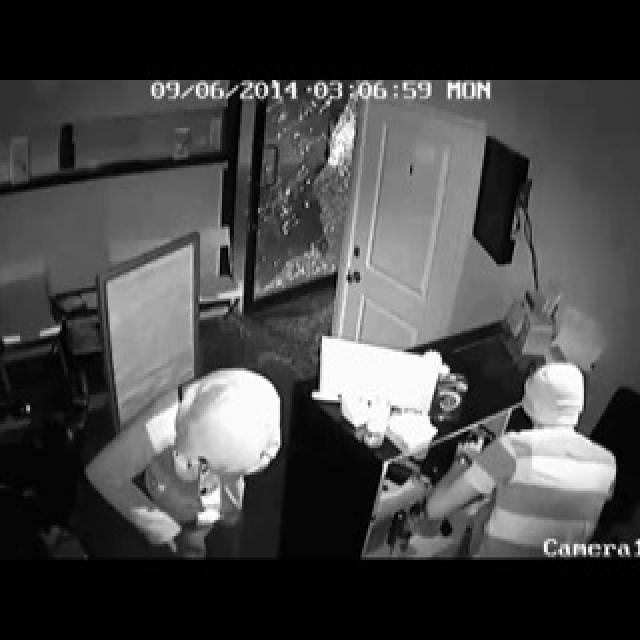thief: (421, 354, 618, 552), (83, 360, 285, 552)
